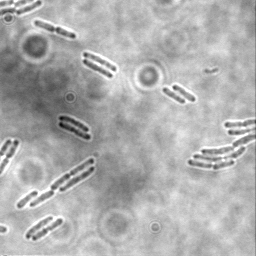Dividing: (51, 157, 96, 192), (33, 19, 77, 41), (0, 138, 21, 176), (82, 50, 118, 72), (32, 218, 64, 242), (57, 121, 93, 141), (58, 114, 90, 133), (172, 83, 196, 103)
Microcolony: (186, 118, 255, 171)
Rod: (59, 165, 96, 193), (25, 215, 54, 240), (82, 59, 114, 79), (29, 189, 56, 208), (15, 0, 43, 17), (162, 87, 186, 105), (17, 190, 39, 209)
